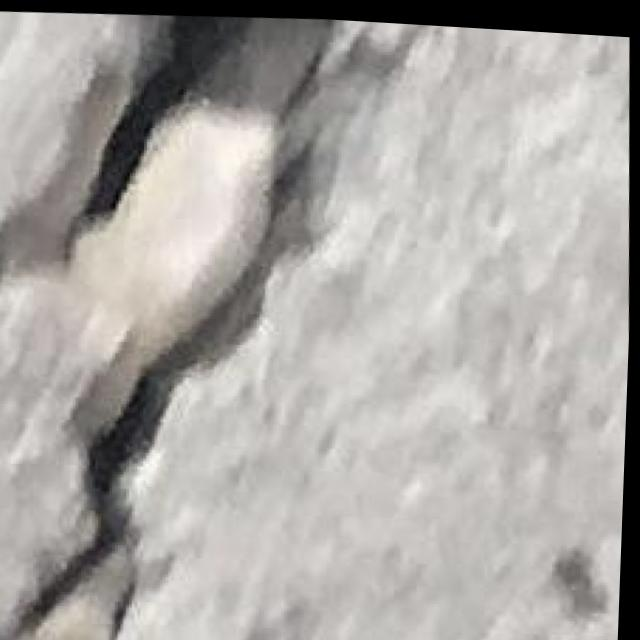Crack: (0, 2, 375, 640)
